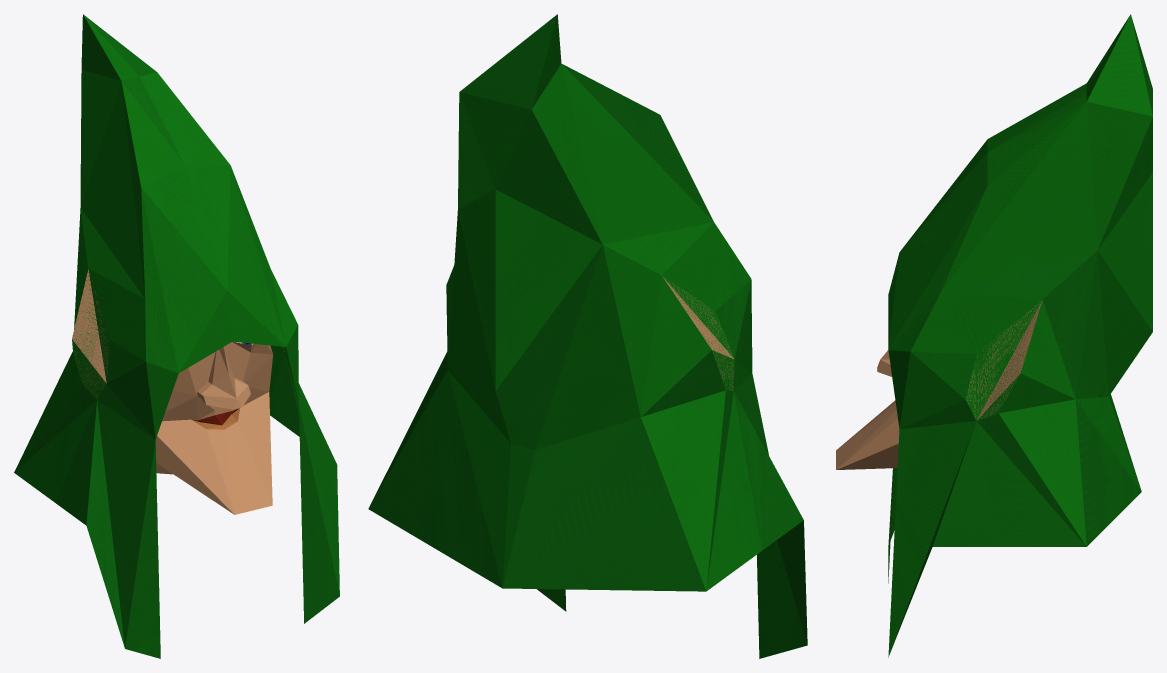
The model's file is model_21_npc_head.obj.
3 renders of one model, left to right at view 1: azimuth 30°, elevation 25°; view 2: azimuth 150°, elevation 25°; view 3: azimuth 270°, elevation 25°, orthographic. The views are drawn at different scales.
Visible parts, largest first — view 1: 21; view 2: 21; view 3: 21.
Boxes of the visible parts, bbox=[...] form: 21: bbox=[14, 14, 339, 658]; 21: bbox=[368, 14, 807, 658]; 21: bbox=[836, 14, 1152, 657].
Bounding box in the file's own units: 112 × 236 × 115.
